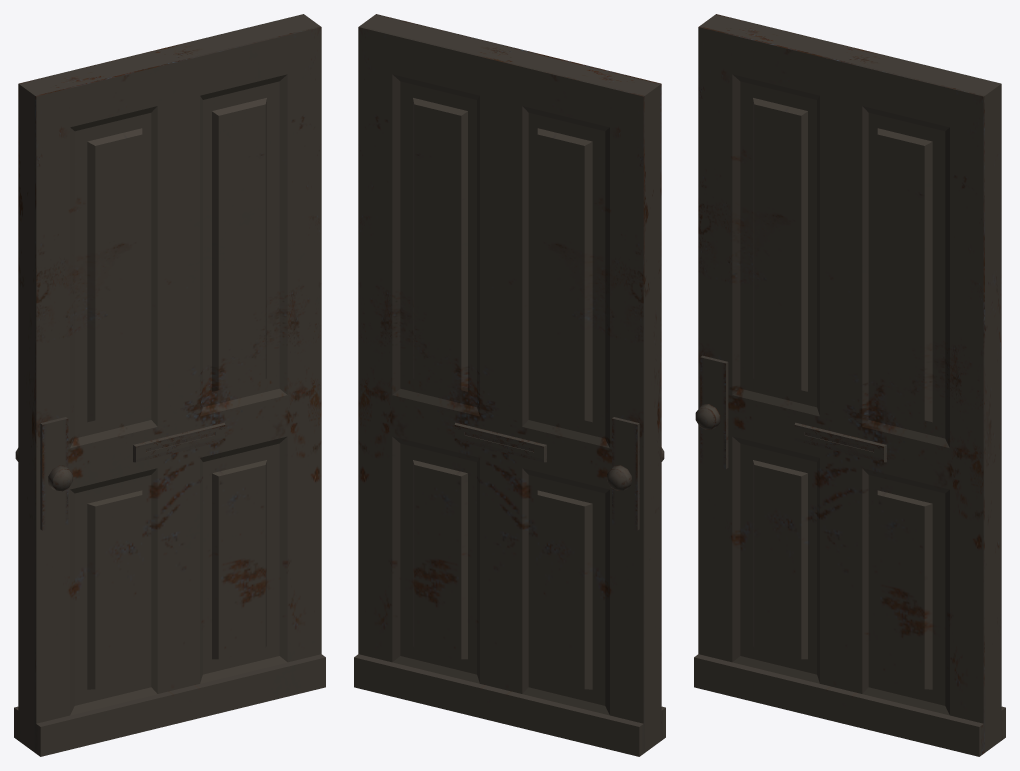
File: Door_1.gltf
3 renders of one model, left to right at view 1: azimuth 30°, elevation 25°; view 2: azimuth 150°, elevation 25°; view 3: azimuth 330°, elevation 25°, orthographic.
Visible parts, largest first — view 1: Door_1; view 2: Door_1; view 3: Door_1.
Boxes of the visible parts, x1,y1,x2,y2 form: Door_1: (14,14,325,756); Door_1: (354,14,665,756); Door_1: (694,14,1005,756).
Bounding box in the file's own units: 1 × 2.2 × 0.2599.
1 material, 1 textured.
